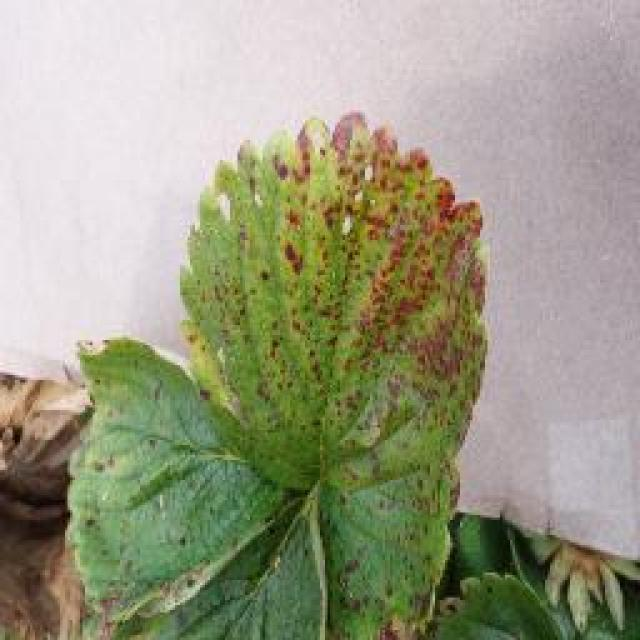Strawberry leaf scorch: (218, 120, 482, 478)
